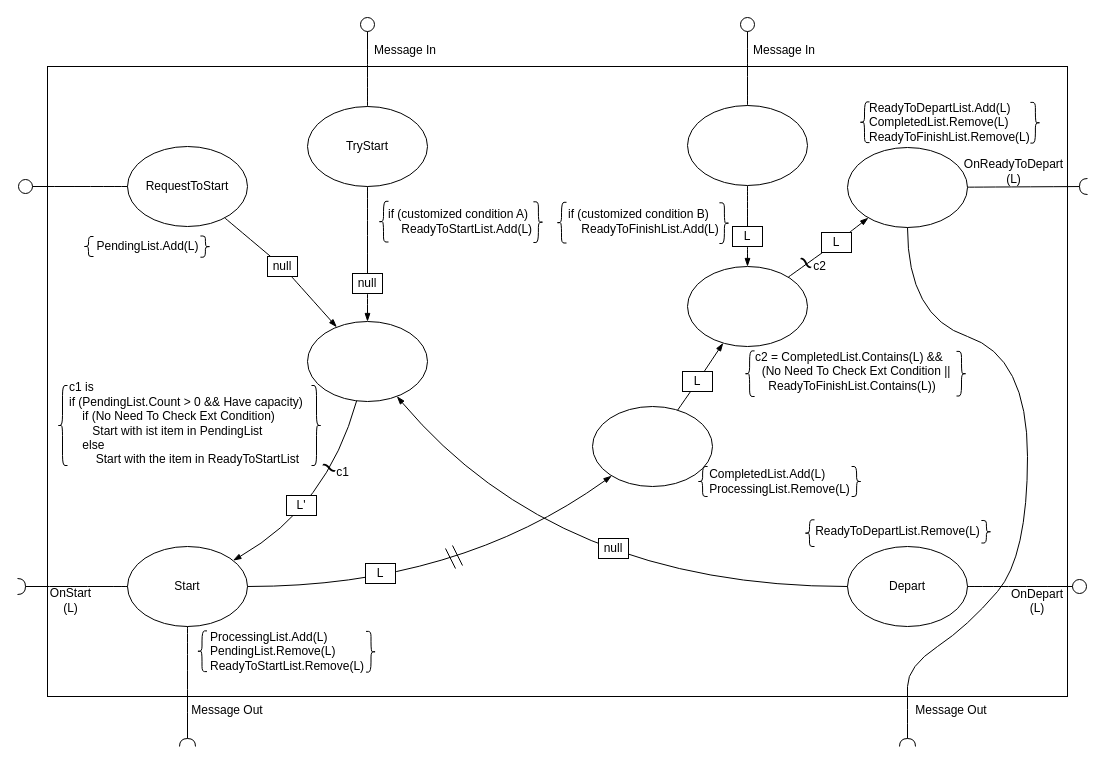
Image size: 1106x764. Some labels were removed from this diagram. Here are the shapes that lost their labels. From the top down, the box of each, then its label:
(686, 104, 808, 186): TryFinish
(846, 146, 968, 228): Finish
(686, 266, 808, 346): AttemptToFinish
(306, 320, 428, 402): AttemptToStart
(592, 406, 712, 486): Complete (Time Up)
